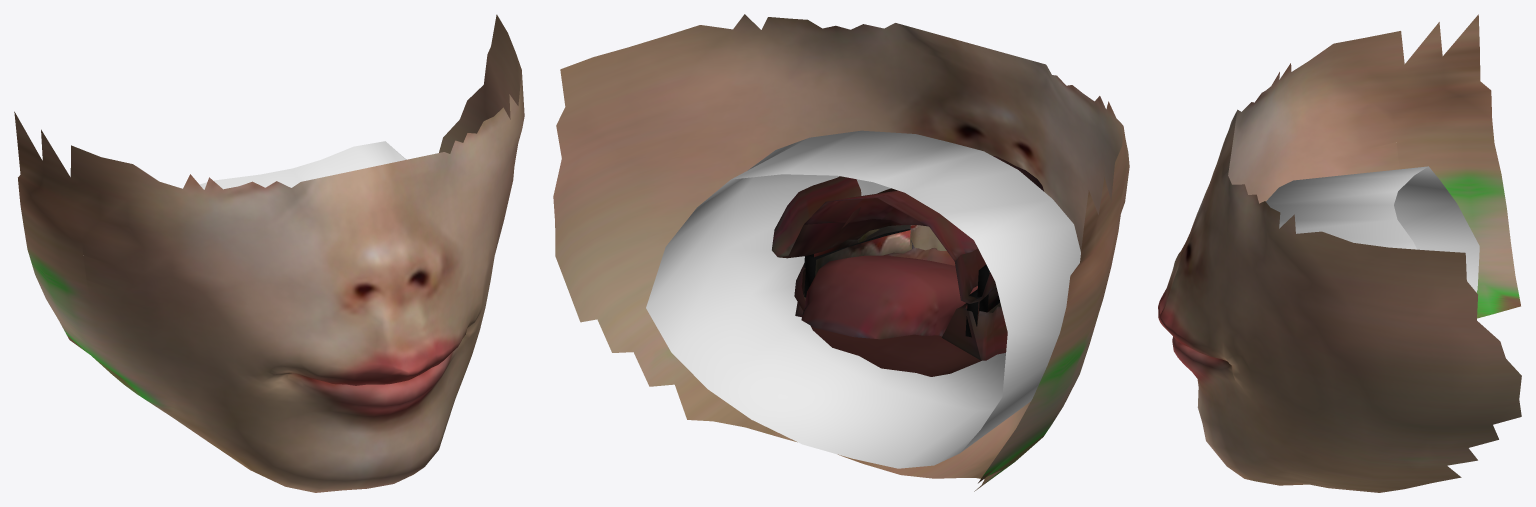
3 renders of one model, left to right at view 1: azimuth 30°, elevation 25°; view 2: azimuth 150°, elevation 25°; view 3: azimuth 270°, elevation 25°, orthographic. The views are drawn at different scales.
Parts seen in each view (by area): view 1: Face, occlusion; view 2: Face, occlusion, Teeth; view 3: Face, occlusion.
Part boxes in pixels (x1=…): Face: x1=14, y1=14, x2=524, y2=492; occlusion: x1=199, y1=141, x2=406, y2=189; Face: x1=553, y1=14, x2=1129, y2=491; occlusion: x1=646, y1=130, x2=1080, y2=468; Teeth: x1=772, y1=155, x2=1043, y2=376; Face: x1=1158, y1=14, x2=1521, y2=492; occlusion: x1=1266, y1=166, x2=1479, y2=292.
Size of the model in its own units: 6.49 by 4.68 by 4.43.
2 materials, 1 textured.
